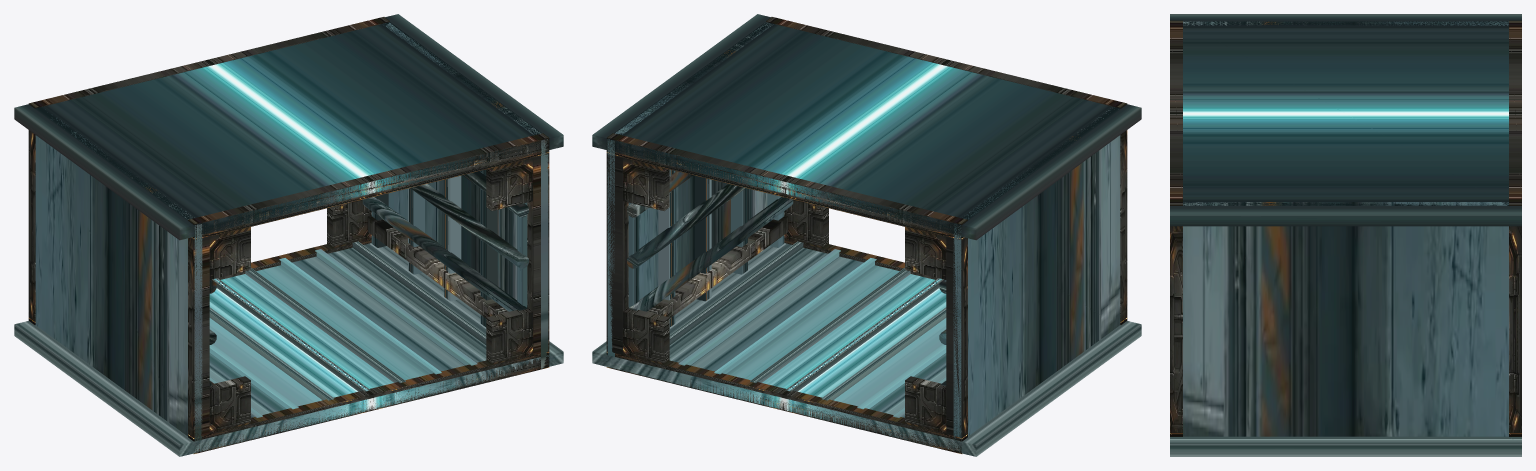
Rendered from hangar_koridor_ankora.glb.
3 renders of one model, left to right at view 1: azimuth 30°, elevation 25°; view 2: azimuth 150°, elevation 25°; view 3: azimuth 270°, elevation 25°, orthographic. The views are drawn at different scales.
Parts seen in each view (by area): view 1: LOD0_koridor; view 2: LOD0_koridor; view 3: LOD0_koridor.
Part boxes in pixels (x1,y1,x2,y2): LOD0_koridor: [14, 14, 563, 456]; LOD0_koridor: [592, 14, 1141, 456]; LOD0_koridor: [1170, 14, 1521, 456].
Bounding box in the file's own units: 10.2 × 5.84 × 7.6.
1 material, 1 textured.
